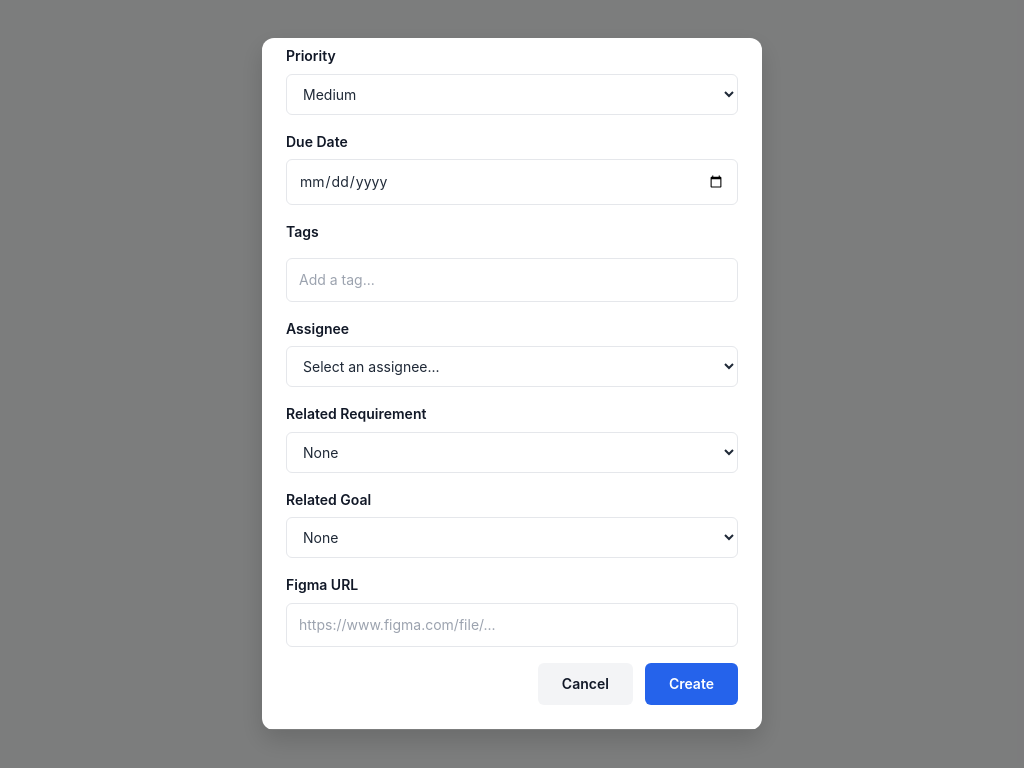
Test: Modal › should show error when submitting empty title
(page scrolled)
Click the button with aria-label "Create new item" at (691, 684), box [645,663,738,705]
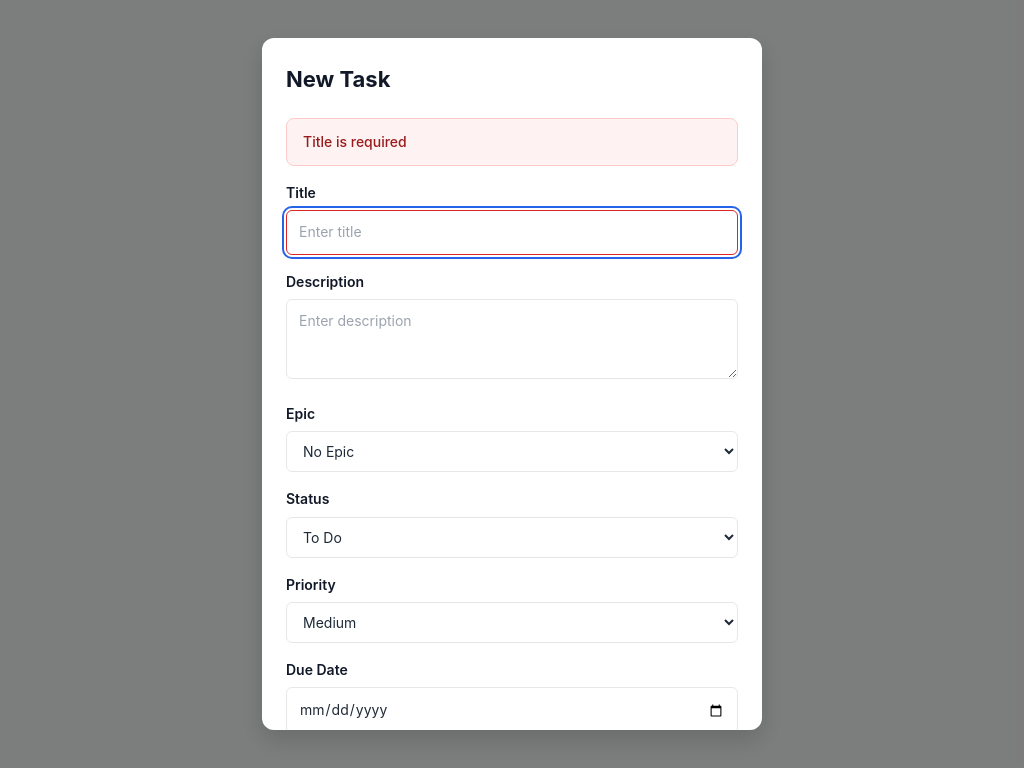
Now the message "Title is required" is shown, box [286,118,738,166]
Now the message reads "Title is required", box [303,133,407,150]
